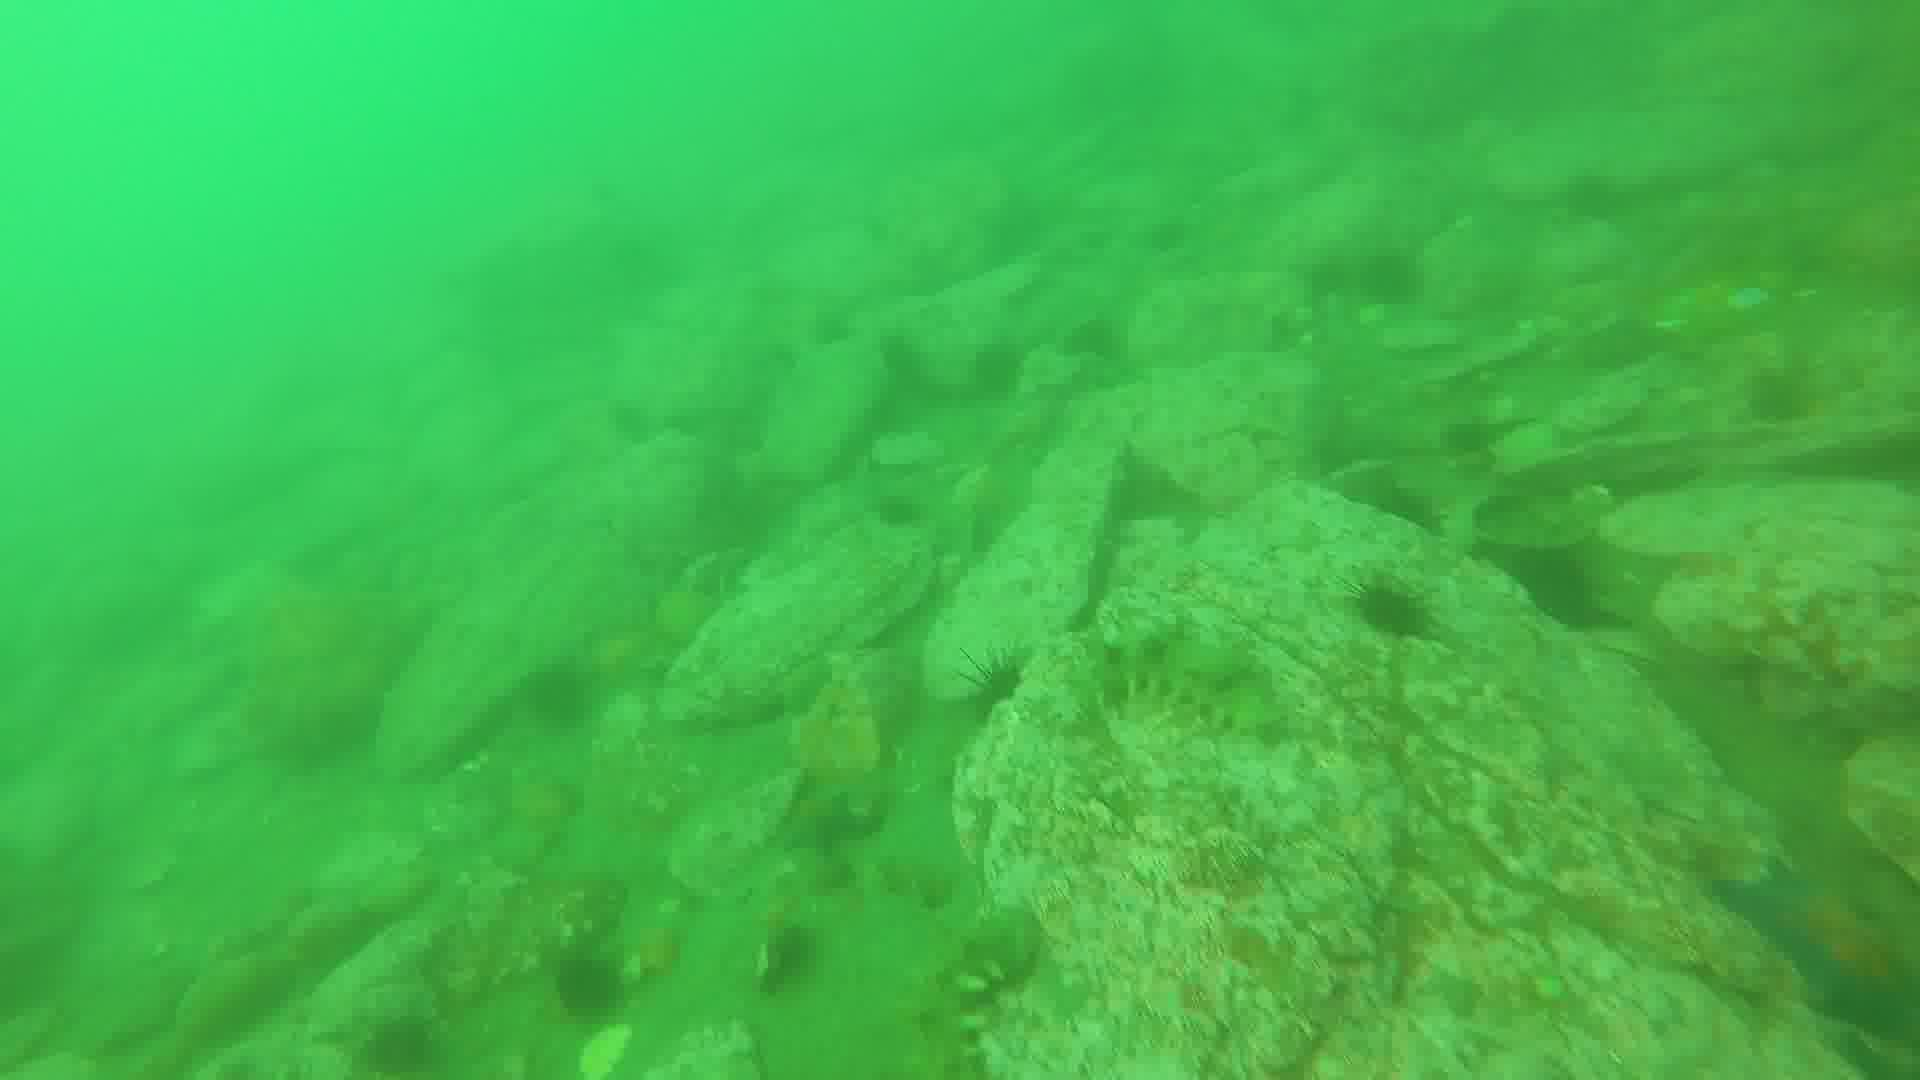echinus: (1520, 545, 1593, 638), (1356, 584, 1433, 651), (364, 1017, 444, 1080), (963, 658, 1036, 727), (553, 955, 629, 1017), (531, 666, 597, 724), (1756, 367, 1822, 425), (1366, 262, 1431, 307), (880, 488, 928, 545), (977, 345, 1030, 397), (1069, 316, 1120, 367)
holothurian: (897, 920, 1029, 1080), (1072, 640, 1276, 738)
starfish: (1722, 855, 1920, 1046)
